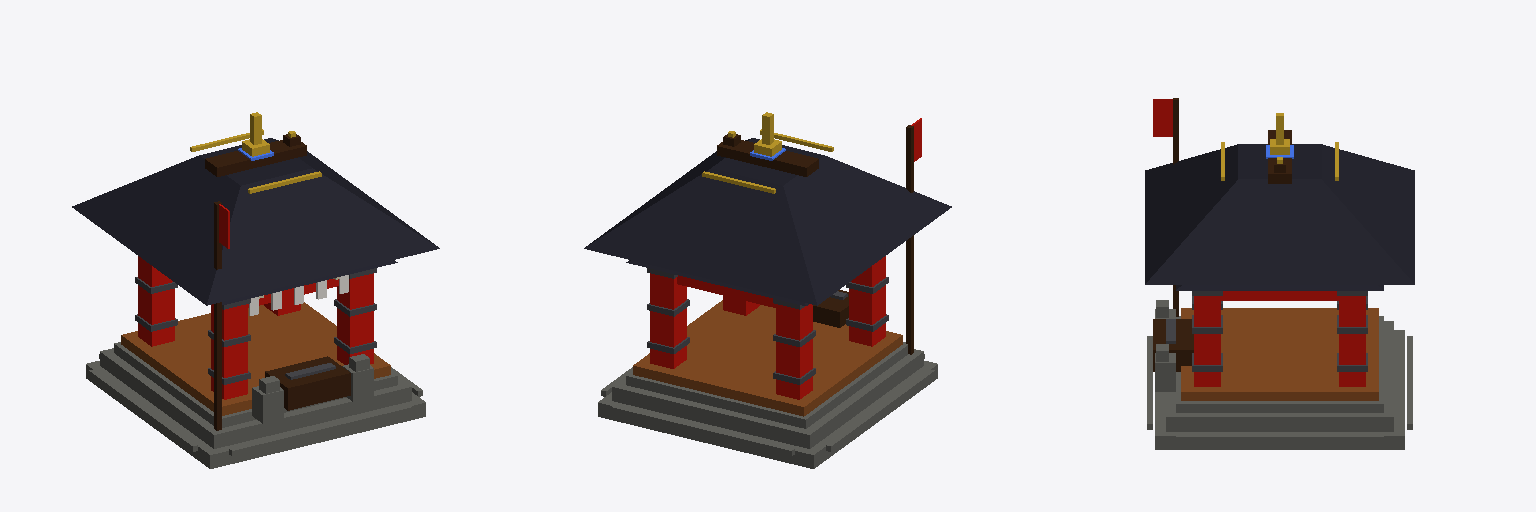
The model's file is basic_t2.obj.
The picture shows the model from 3 angles: view 1: azimuth 30°, elevation 25°; view 2: azimuth 150°, elevation 25°; view 3: azimuth 270°, elevation 25°; orthographic projection.
Size of the model in its own units: 26 by 30 by 26.